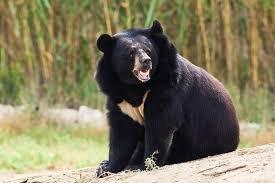bear: (96, 20, 240, 173)
